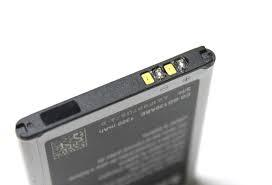battery: (1, 40, 218, 185)
